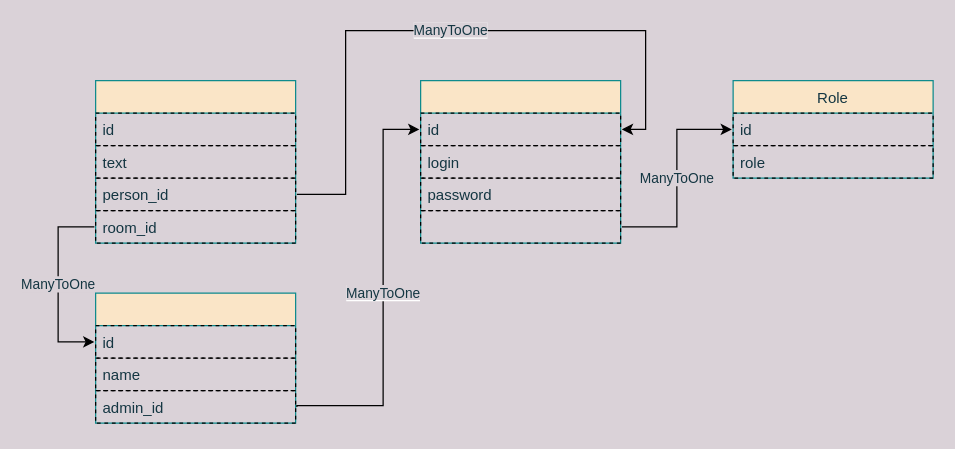
This 955x449 diagram has some shape labels left out. The shapes that lost their labels are listed below. From the top down, each one's box as (x1, y1, x2, y2) in pixels, then its label:
(94, 79, 296, 243): Message
(419, 79, 621, 243): Person
(419, 209, 621, 243): role_id
(94, 292, 296, 423): Room
